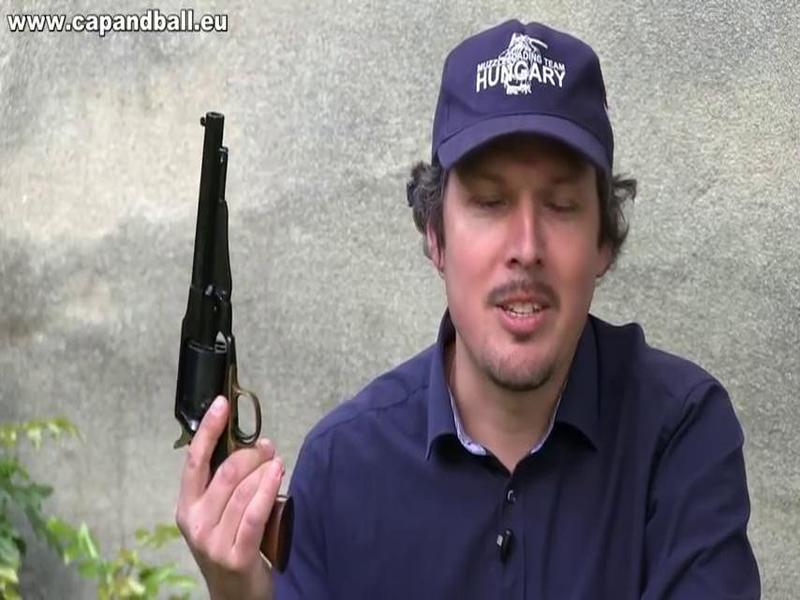Revolver: (137, 93, 317, 575)
